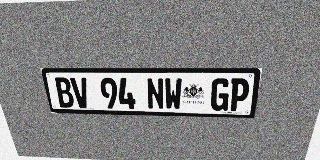4: (116, 78, 136, 109)
9: (99, 78, 119, 109)
B: (53, 77, 75, 108)
G: (210, 78, 231, 111)
N: (146, 78, 164, 110)
P: (228, 78, 251, 111)
V: (70, 77, 91, 108)
W: (164, 78, 182, 110)
